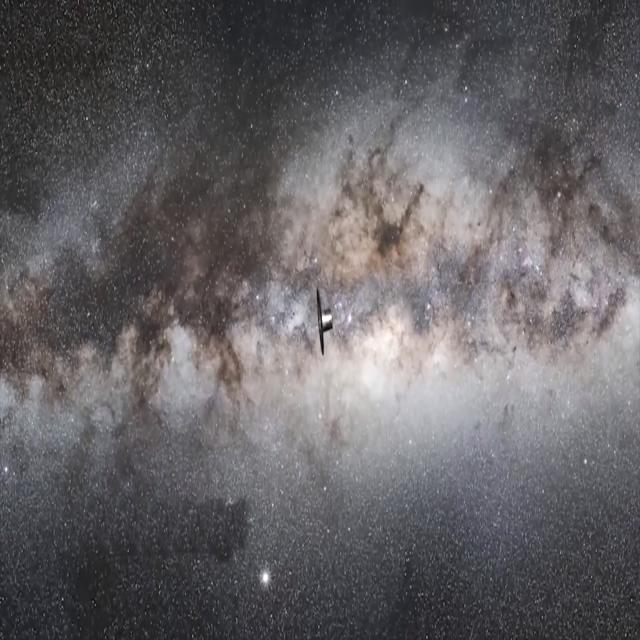satellite: (308, 276, 345, 368)
